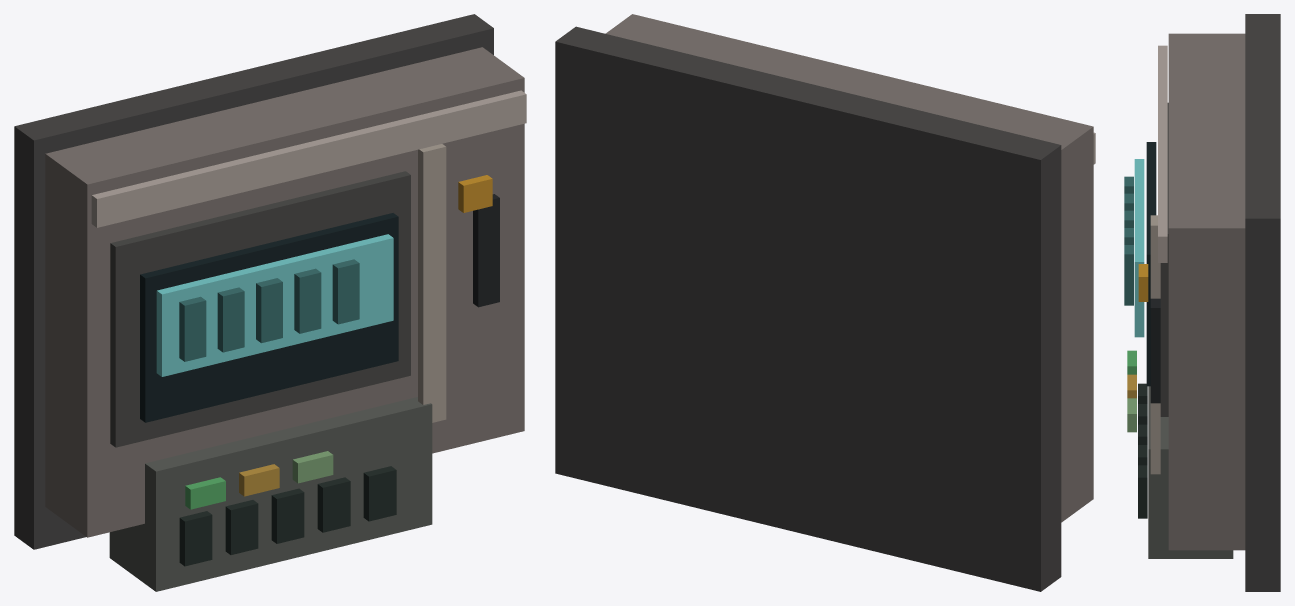
The model's file is CMU3DWallAPC.glb.
3 renders of one model, left to right at view 1: azimuth 30°, elevation 25°; view 2: azimuth 150°, elevation 25°; view 3: azimuth 270°, elevation 25°, orthographic. The views are drawn at different scales.
Visible parts, largest first — view 1: controller housing, controller backplate, lower socket bank, left display surround, dark display, top casing ridge, cyan power readout, lower bank slot (×5), charging display bar (×5), right latch divider, channel indicator (×3), vertical interface latch (+1 smaller); view 2: controller backplate, controller housing; view 3: controller housing, controller backplate, lower socket bank, top casing ridge, cyan power readout, left display surround, dark display, right latch divider, vertical interface latch, channel indicator (×3), charging display bar, lower bank slot (+1 smaller).
Boxes of the visible parts, box(x1,y1,x2,y2) form: controller housing: box(45, 47, 524, 537); controller backplate: box(14, 14, 493, 549); lower socket bank: box(109, 397, 432, 591); left display surround: box(110, 171, 410, 447); dark display: box(140, 213, 398, 422); top casing ridge: box(91, 90, 526, 227); cyan power readout: box(156, 234, 393, 376); lower bank slot (×5): box(179, 466, 396, 566); charging display bar (×5): box(179, 259, 359, 361); right latch divider: box(418, 144, 446, 422); channel indicator (×3): box(185, 451, 333, 509); vertical interface latch: box(473, 194, 499, 307); controller backplate: box(555, 26, 1061, 591); controller housing: box(605, 14, 1093, 522); controller housing: box(1168, 33, 1245, 550); controller backplate: box(1245, 14, 1280, 591); lower socket bank: box(1148, 386, 1233, 558); top casing ridge: box(1158, 45, 1167, 262); cyan power readout: box(1134, 159, 1144, 337); left display surround: box(1160, 102, 1168, 416); dark display: box(1146, 142, 1156, 386); right latch divider: box(1150, 215, 1160, 474); vertical interface latch: box(1150, 298, 1160, 403); channel indicator (×3): box(1127, 350, 1136, 432); charging display bar: box(1124, 245, 1133, 305); lower bank slot: box(1138, 465, 1147, 518).
Size of the model in its own units: 0.6 by 0.535 by 0.194.
